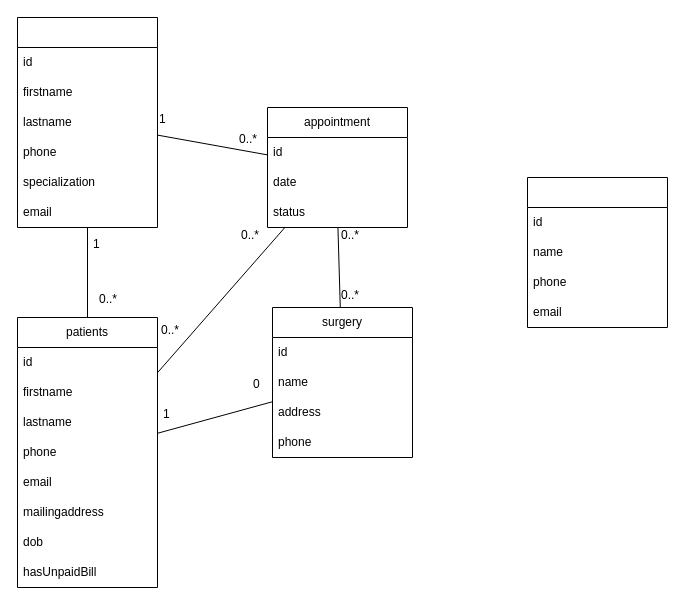
Image size: 685x605. Some labels were removed from this diagram. Here are the shapes that lost their labels. From the top down, the box of each, then its label:
(16, 16, 158, 228): Dentist
(526, 176, 668, 328): officemanager
